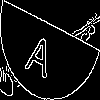A: (25, 25, 58, 80)
